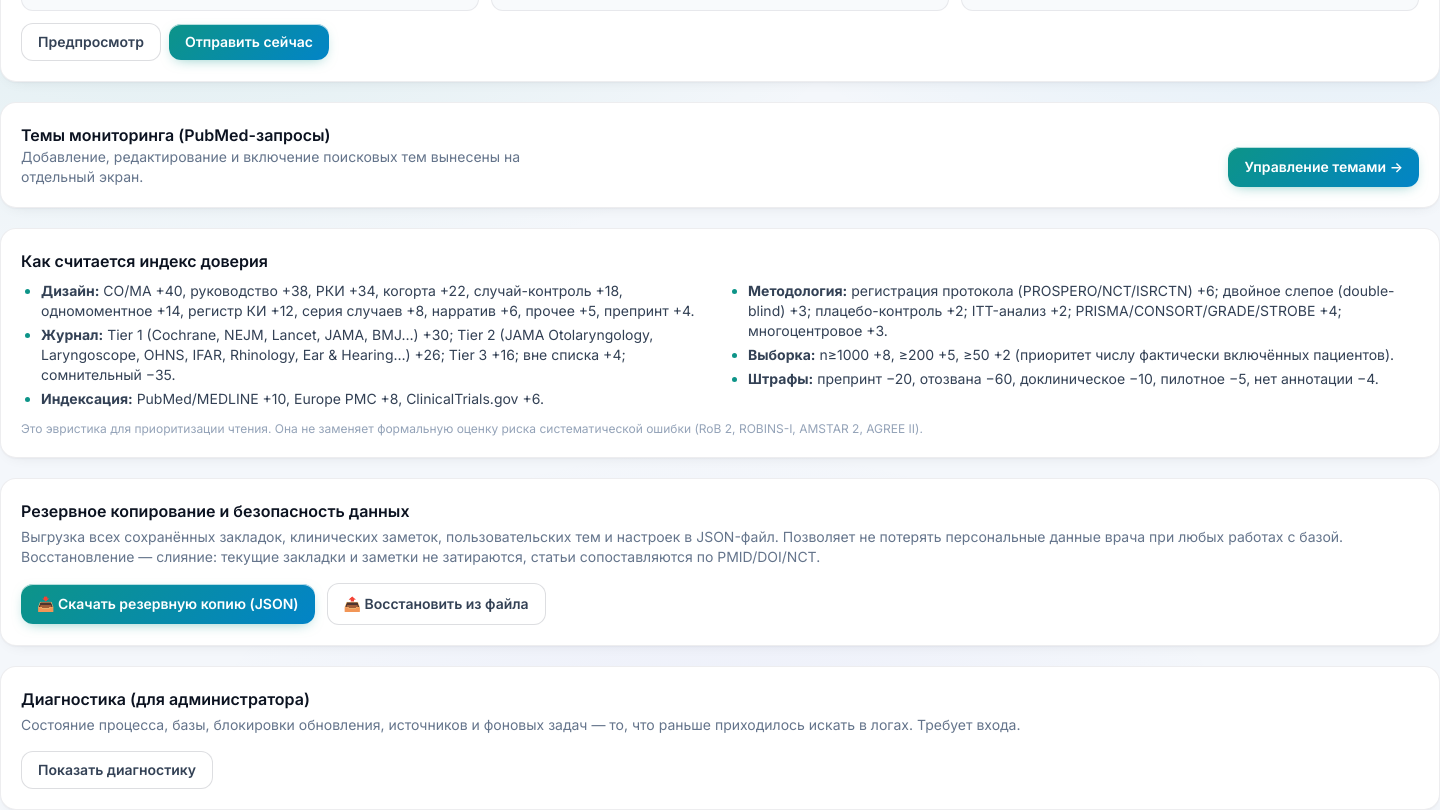
Test: <SettingsPanel /> › диагностика: зависшая блокировка и источники с ошибками показываются; «Снять блокировку» — подтверждение → POST → перезагрузка; отказ — без запроса
(page scrolled)
Click the button "Показать диагностику" at {"x": 117, "y": 770}, box top-left (21, 750), bottom-right (213, 788)
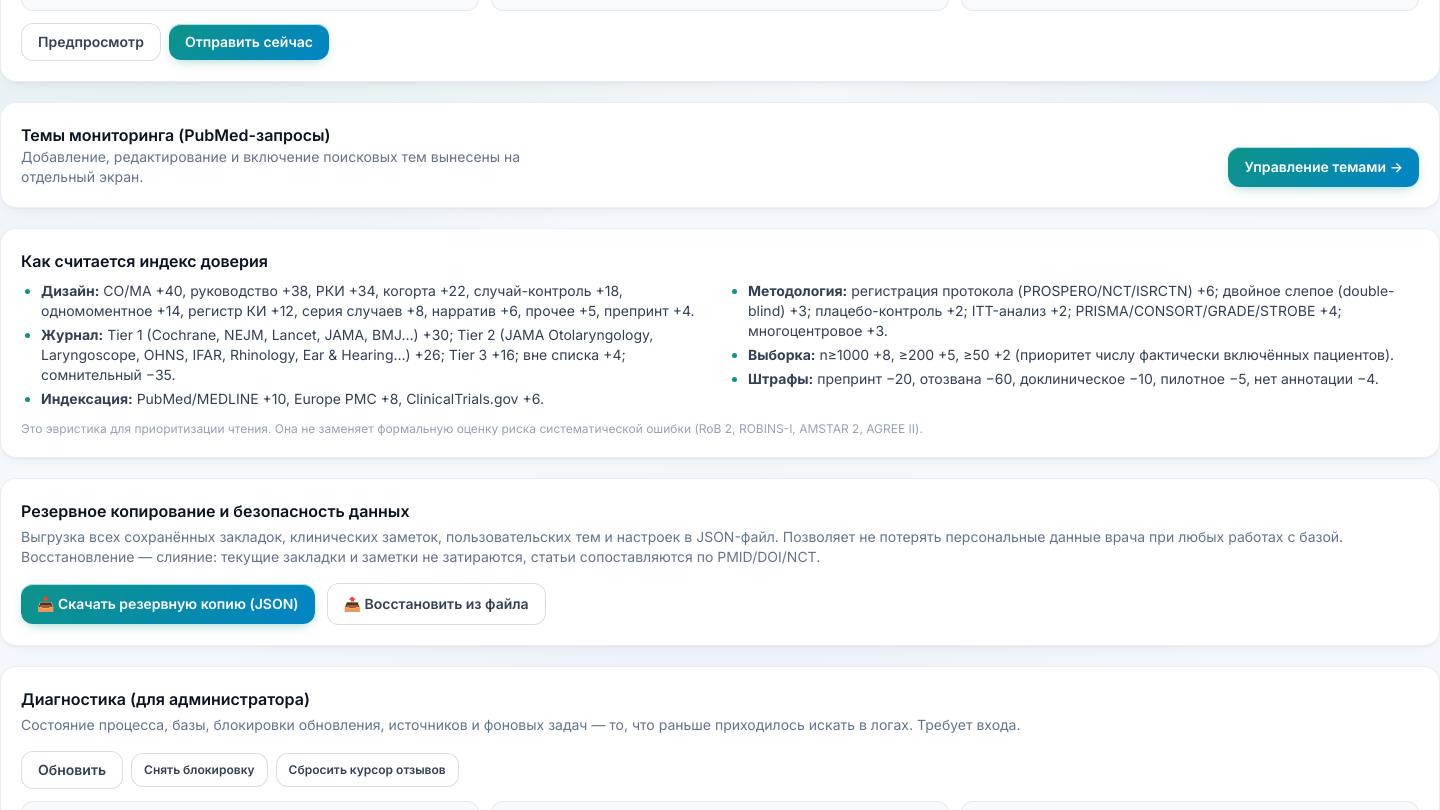
Now the button "Снять блокировку" is enabled
Click the button "Снять блокировку" at {"x": 199, "y": 770}, box top-left (131, 752), bottom-right (268, 786)
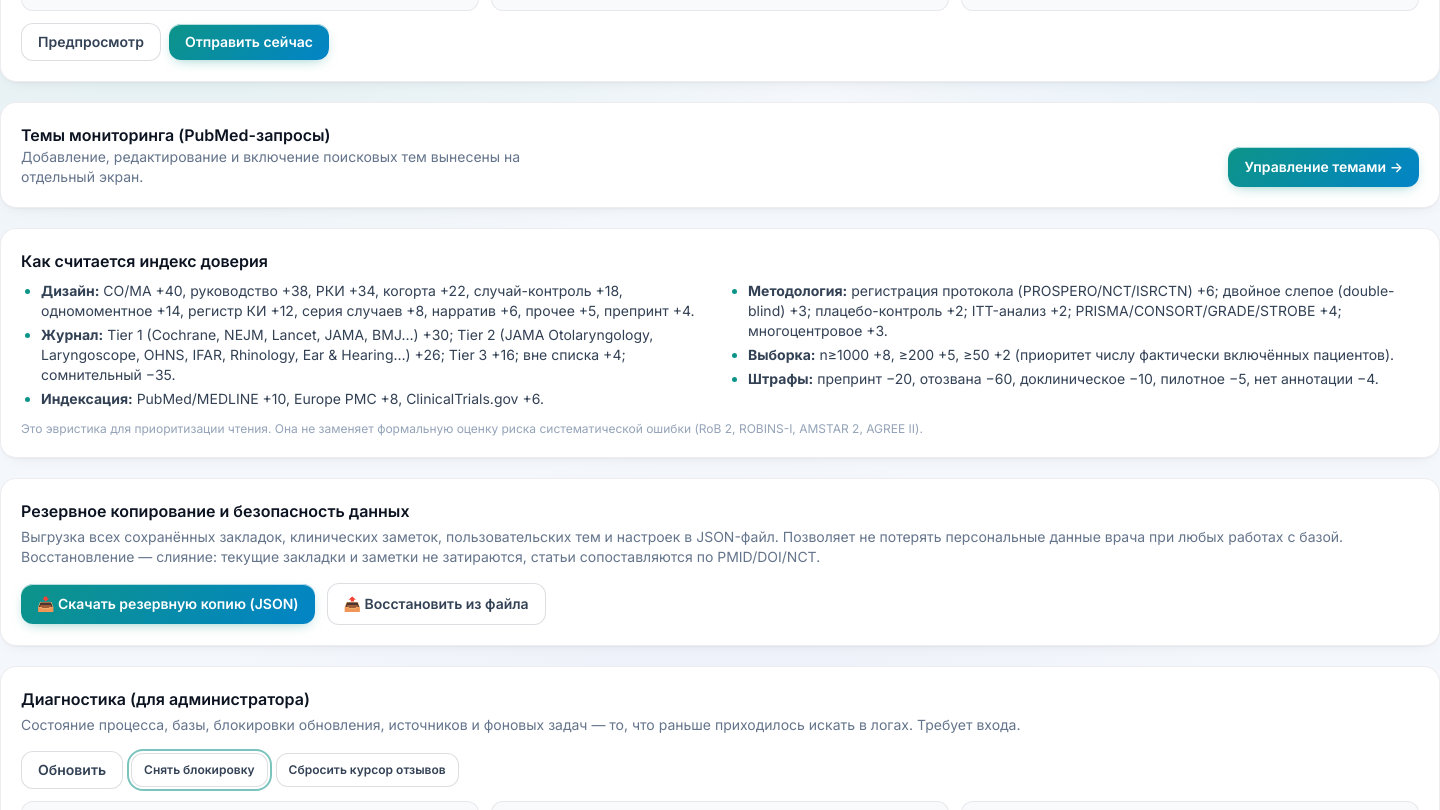
Click the button "Снять блокировку" at {"x": 199, "y": 770}, box top-left (131, 752), bottom-right (268, 786)
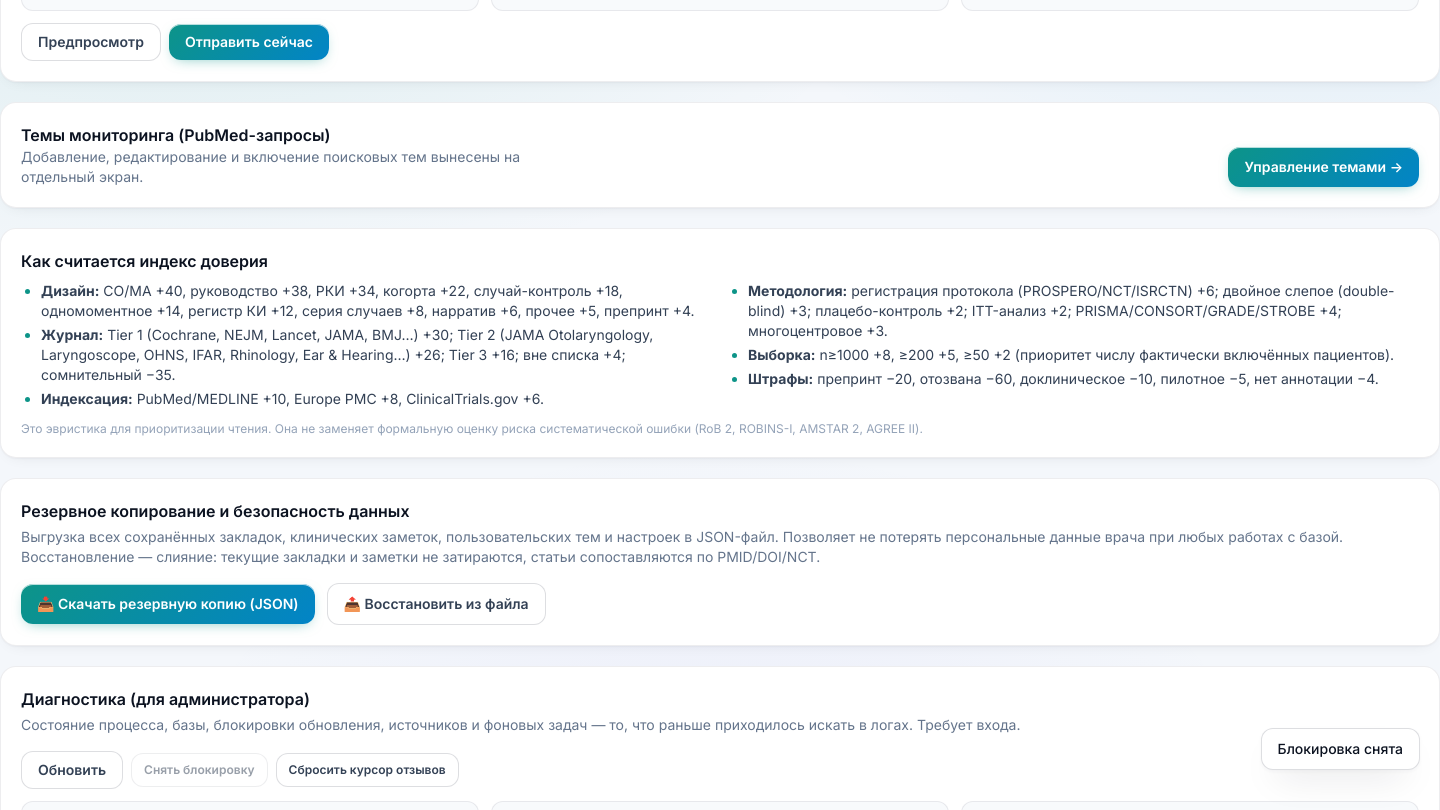
Now the text "Блокировка снята" is shown, box top-left (1261, 728), bottom-right (1420, 770)
Now the button "Снять блокировку" is disabled, box top-left (131, 752), bottom-right (268, 786)
